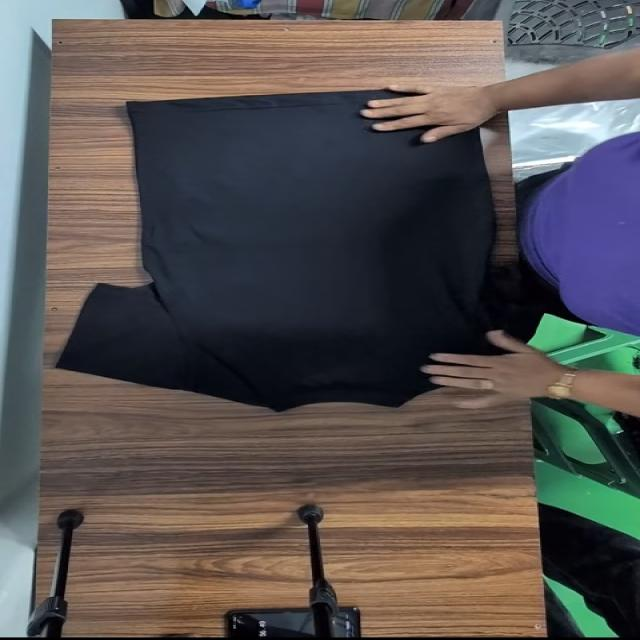new-garment: (57, 91, 543, 411)
